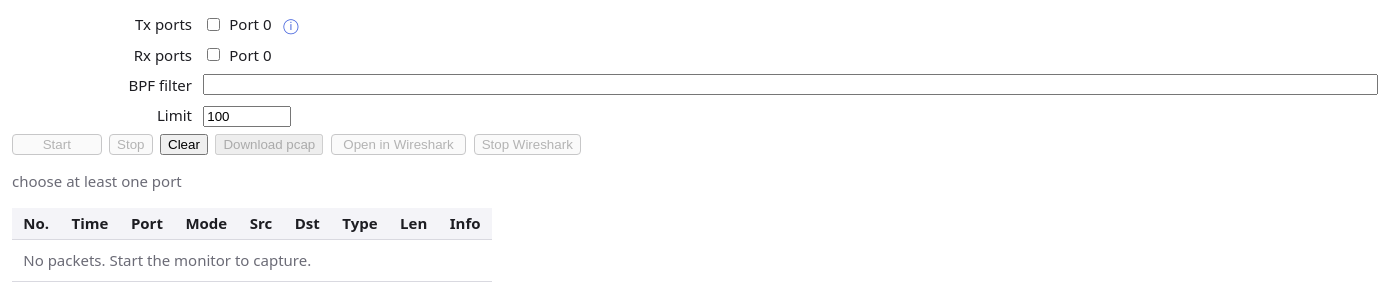
Test case: CaptureMonitor › the notes are behind ⓘ and the reason stays visible text under the actions
Expected: the text "On the af_packet test guest" is not shown
Click the button named "About the af_packet": (291, 24) top-left (279, 12), bottom-right (303, 36)
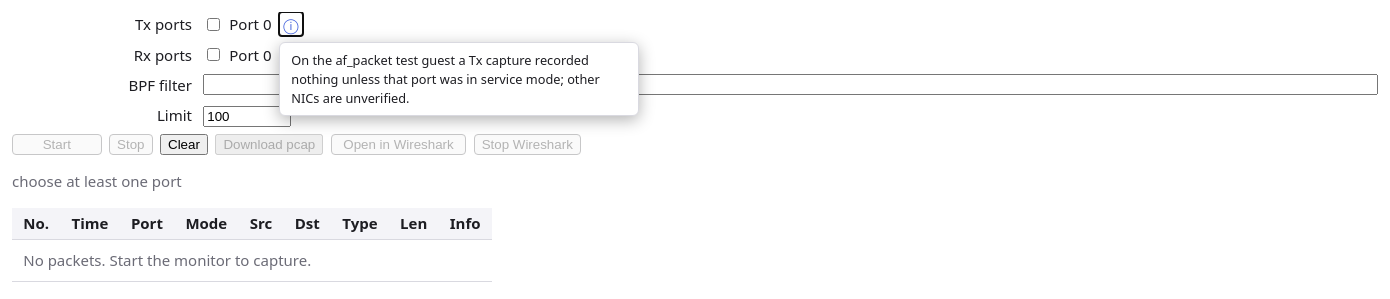
Expected: the text "choose at least one port" is shown, top-left (12, 171), bottom-right (182, 191)
Expected: the text "On the af_packet test guest" is shown, top-left (291, 50), bottom-right (600, 107)
